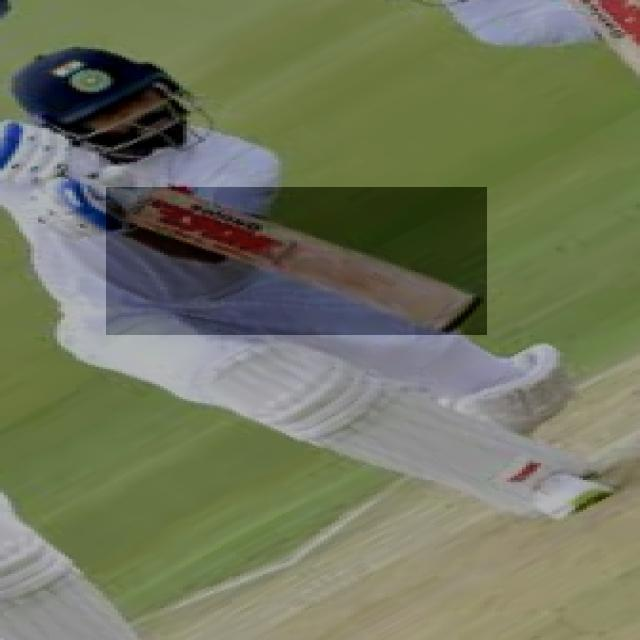bat: (109, 190, 487, 331)
toe: (433, 293, 491, 341)
